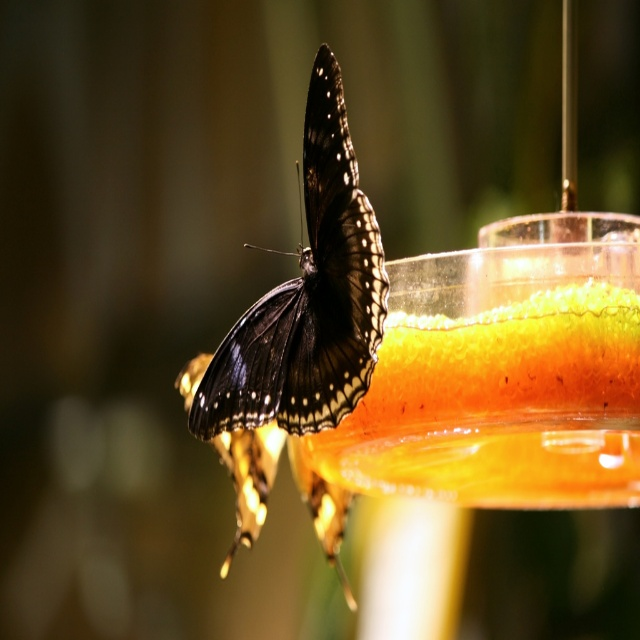Butterfly: (199, 53, 394, 496)
